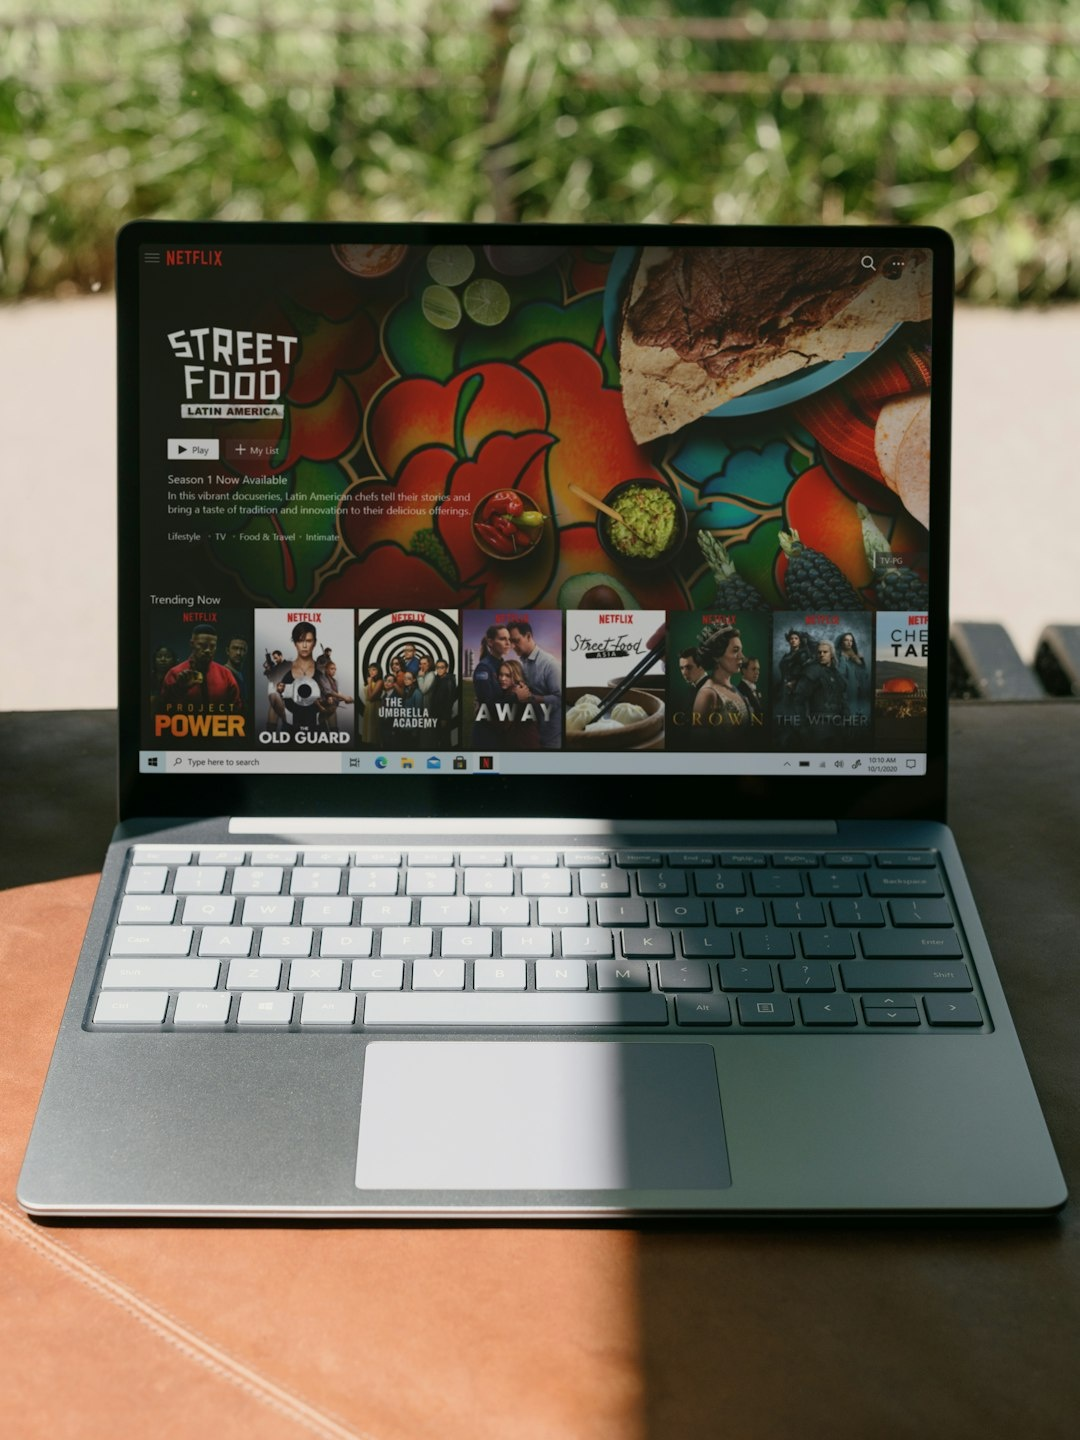laptop: (6, 147, 1058, 1329)
